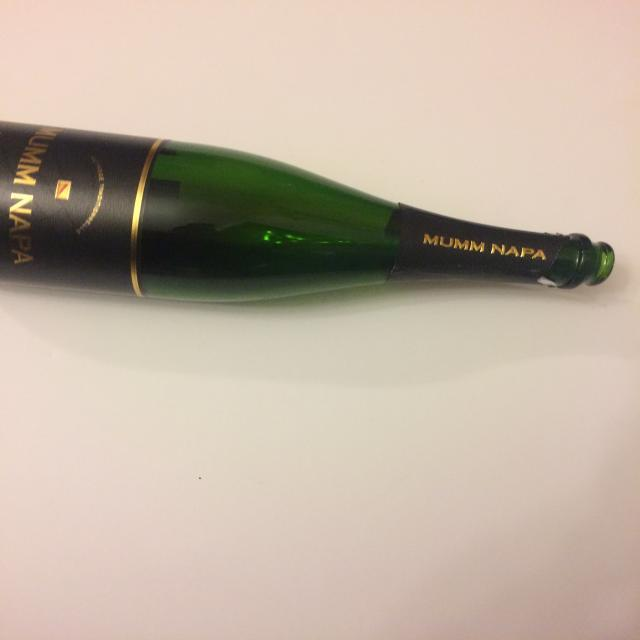glass: (1, 120, 616, 302)
